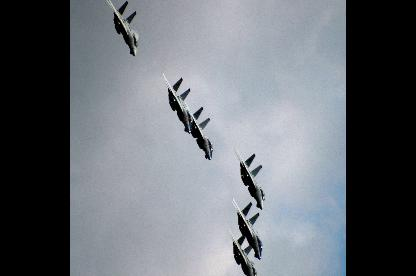EF2000: (234, 146, 266, 208), (161, 72, 193, 132), (105, 0, 139, 56), (232, 197, 262, 259), (184, 99, 214, 160), (227, 226, 258, 275)
